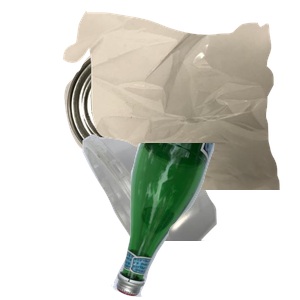glass: (109, 143, 300, 300)
metal: (62, 43, 232, 198)
plastic: (80, 120, 289, 300)
trash: (61, 10, 300, 190)
